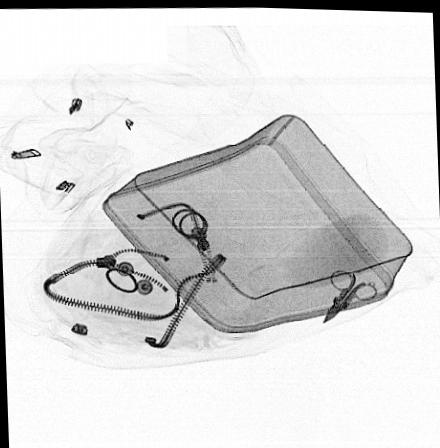Scissors: (322, 266, 377, 320)
